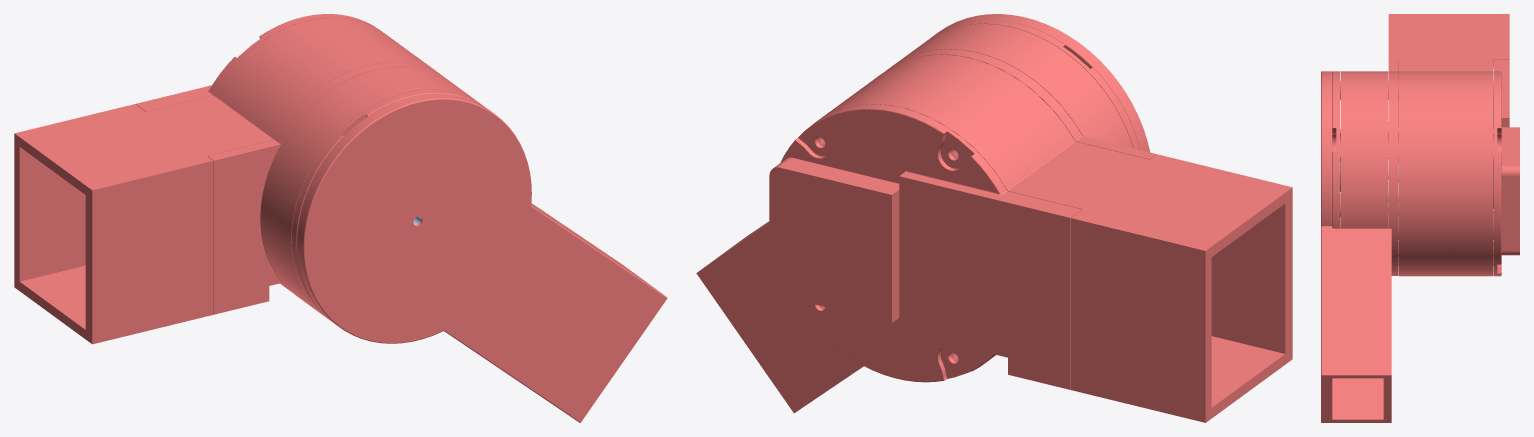
File: hankKneeAssem.glb
3 renders of one model, left to right at view 1: azimuth 30°, elevation 25°; view 2: azimuth 150°, elevation 25°; view 3: azimuth 270°, elevation 25°, orthographic. The views are drawn at different scales.
Parts seen in each view (by area): view 1: Knee Hub-3, Knee Hub Cap-1; view 2: Knee Hub-3, Knee Hub Cap-1; view 3: Knee Hub-3, Knee Hub Cap-1.
Part boxes in pixels (x1,y1,x2,y2): Knee Hub-3: [14, 14, 484, 344]; Knee Hub Cap-1: [297, 93, 667, 422]; Knee Hub-3: [769, 20, 1292, 422]; Knee Hub Cap-1: [696, 14, 1150, 413]; Knee Hub-3: [1332, 14, 1519, 276]; Knee Hub Cap-1: [1321, 71, 1391, 422].
Size of the model in its own units: 0.2327 by 0.151 by 0.097.
